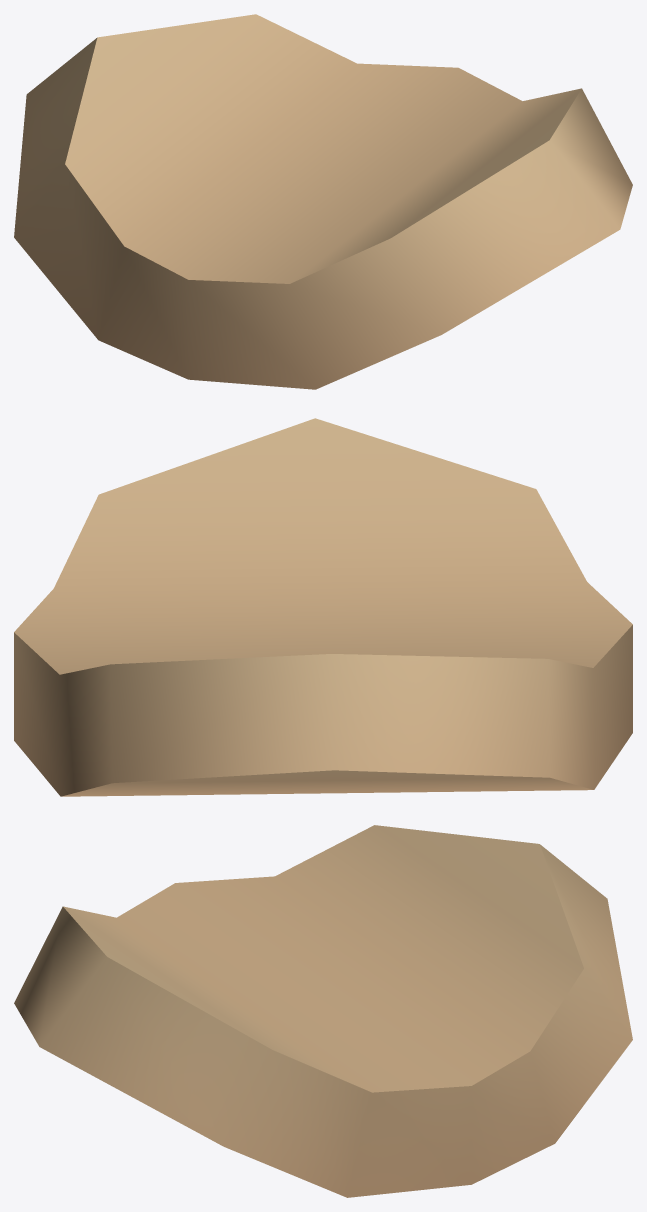
Rendered from (%no-merge) 5.glb.
The picture shows the model from 3 angles, top to bottom: view 1: azimuth 30°, elevation 25°; view 2: azimuth 150°, elevation 25°; view 3: azimuth 270°, elevation 25°; orthographic projection. The views are drawn at different scales.
Visible parts, largest first — view 1: (%no-merge) 5; view 2: (%no-merge) 5; view 3: (%no-merge) 5.
Part boxes in pixels (x1,y1,x2,y2): (%no-merge) 5: [14, 14, 632, 389]; (%no-merge) 5: [14, 418, 632, 796]; (%no-merge) 5: [14, 825, 632, 1197].
Bounding box in the file's own units: 0.0861 × 0.0293 × 0.0899.
